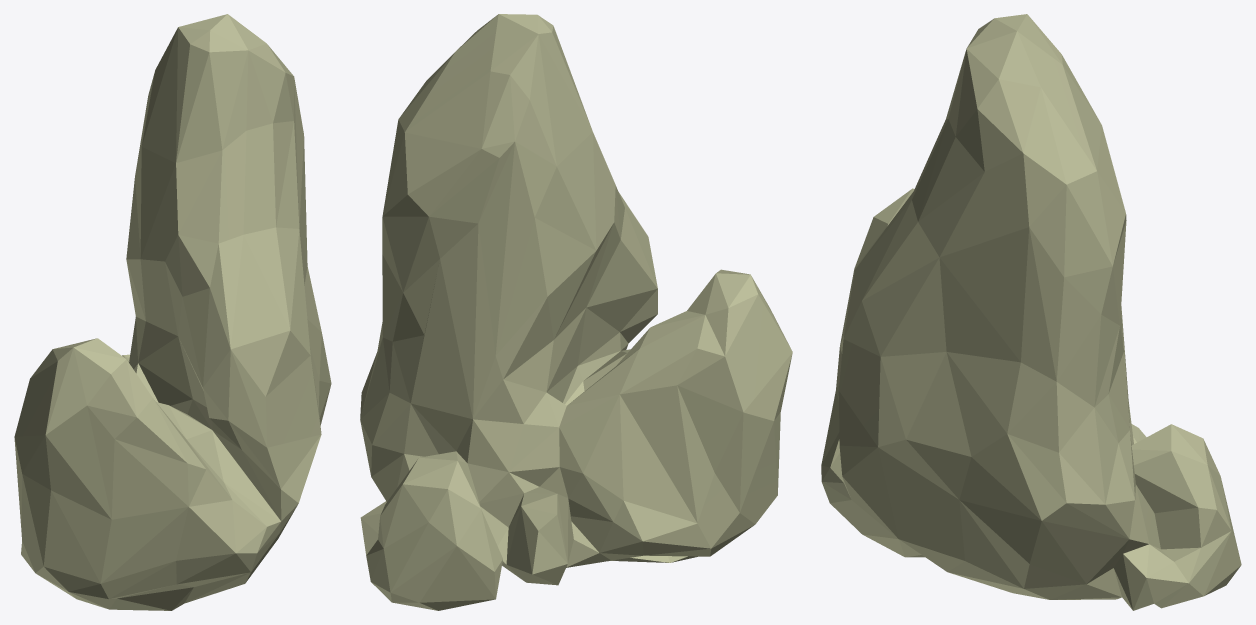
File: roc'h.fbx
The picture shows the model from 3 angles, left to right: view 1: azimuth 30°, elevation 25°; view 2: azimuth 150°, elevation 25°; view 3: azimuth 270°, elevation 25°; orthographic projection. The views are drawn at different scales.
Visible parts, largest first — view 1: Roc; view 2: Roc; view 3: Roc.
Part boxes in pixels (x1=…): Roc: x1=14, y1=14, x2=331, y2=610; Roc: x1=360, y1=14, x2=792, y2=610; Roc: x1=821, y1=14, x2=1241, y2=610.
Size of the model in its own units: 687 by 663 by 987.
